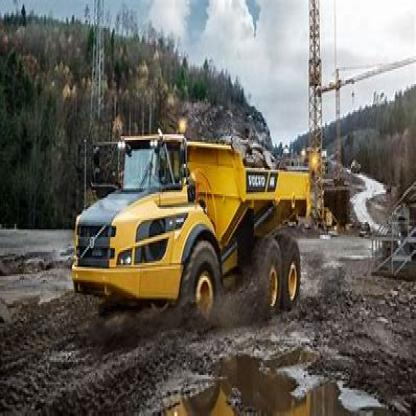dump_truck: (70, 110, 309, 328)
